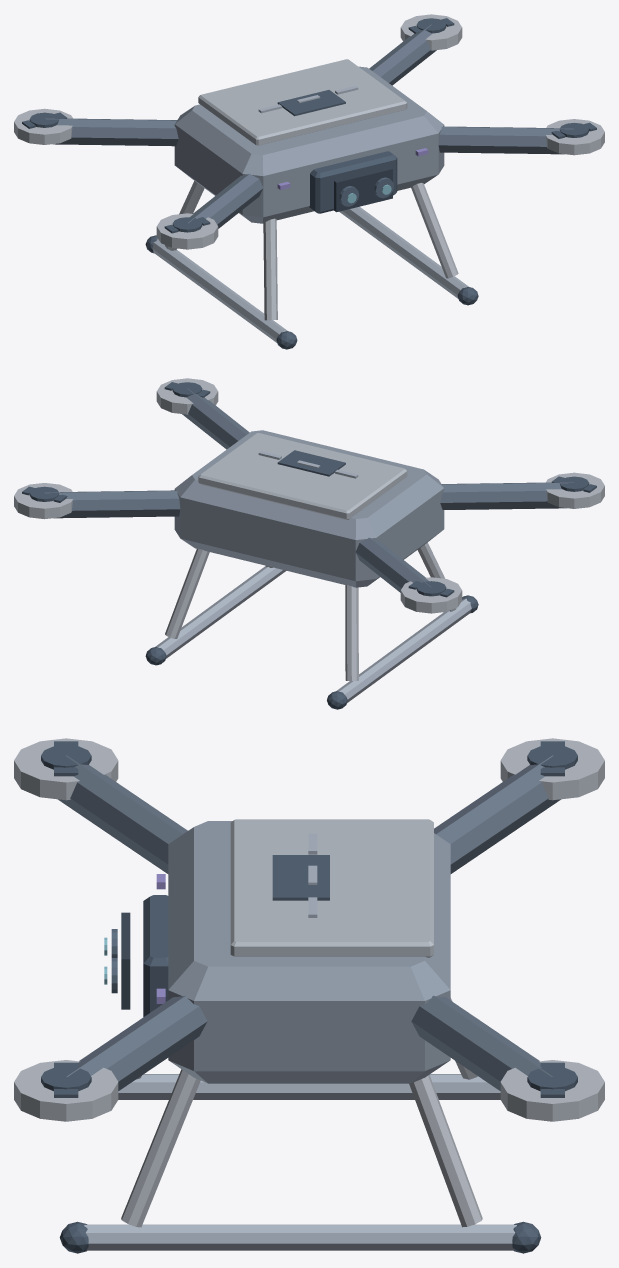
File: frame-light.glb
3 renders of one model, top to bottom at view 1: azimuth 30°, elevation 25°; view 2: azimuth 150°, elevation 25°; view 3: azimuth 270°, elevation 25°, orthographic. The views are drawn at different scales.
Visible parts, largest first — view 1: 000_aerodynamic_hull, 001_top_service_cover, 021_carbon_arm, 006_carbon_arm, 028_landing_skid, 033_landing_skid, 036_camera_module, 016_carbon_arm, 011_carbon_arm, 027_landing_leg, 032_landing_leg, 017_motor_mount (+6 smaller); view 2: 000_aerodynamic_hull, 001_top_service_cover, 016_carbon_arm, 011_carbon_arm, 028_landing_skid, 033_landing_skid, 006_carbon_arm, 021_carbon_arm, 007_motor_mount, 026_landing_leg, 012_motor_mount, 031_landing_leg (+4 smaller); view 3: 000_aerodynamic_hull, 001_top_service_cover, 033_landing_skid, 028_landing_skid, 016_carbon_arm, 006_carbon_arm, 011_carbon_arm, 021_carbon_arm, 012_motor_mount, 022_motor_mount, 032_landing_leg, 031_landing_leg (+11 smaller).
Boxes of the visible parts, x1,y1,x2,y2 form: 000_aerodynamic_hull: (174, 66, 444, 223); 001_top_service_cover: (198, 59, 407, 145); 021_carbon_arm: (438, 126, 573, 154); 006_carbon_arm: (45, 118, 178, 146); 028_landing_skid: (152, 239, 287, 342); 033_landing_skid: (339, 206, 468, 298); 036_camera_module: (309, 151, 397, 213); 016_carbon_arm: (187, 174, 263, 228); 011_carbon_arm: (369, 24, 436, 85); 027_landing_leg: (263, 218, 277, 320); 032_landing_leg: (411, 182, 458, 278); 017_motor_mount: (156, 213, 218, 249); 000_aerodynamic_hull: (174, 430, 444, 587); 001_top_service_cover: (198, 433, 407, 519); 016_carbon_arm: (440, 482, 573, 509); 011_carbon_arm: (45, 490, 180, 518); 028_landing_skid: (336, 598, 471, 702); 033_landing_skid: (155, 566, 286, 658); 006_carbon_arm: (355, 537, 431, 592); 021_carbon_arm: (182, 388, 249, 449); 007_motor_mount: (400, 577, 462, 613); 026_landing_leg: (345, 585, 358, 680); 012_motor_mount: (14, 483, 73, 519); 031_landing_leg: (165, 549, 209, 638); 000_aerodynamic_hull: (168, 821, 450, 1083); 001_top_service_cover: (230, 819, 433, 957); 033_landing_skid: (84, 1224, 516, 1250); 028_landing_skid: (118, 1074, 500, 1099); 016_carbon_arm: (58, 755, 187, 873); 006_carbon_arm: (434, 755, 560, 873); 011_carbon_arm: (411, 995, 552, 1090); 021_carbon_arm: (66, 995, 207, 1090); 012_motor_mount: (500, 1060, 604, 1121); 022_motor_mount: (14, 1060, 118, 1121); 032_landing_leg: (121, 1069, 200, 1227); 031_landing_leg: (409, 1074, 482, 1227).
Bounding box in the file's own units: 5.3 × 2.04 × 3.62.
